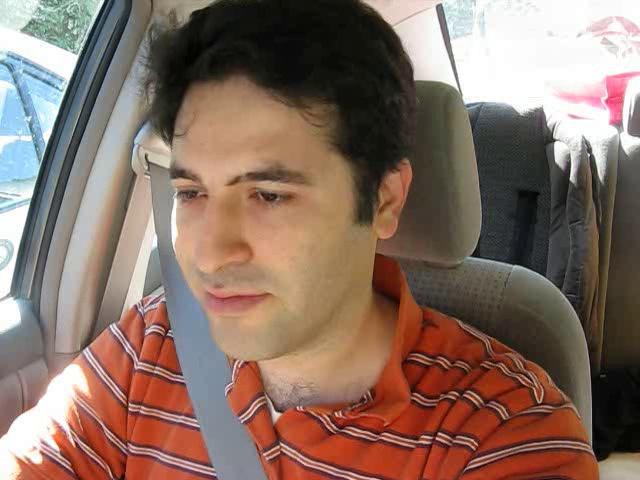no_yawn: (177, 272, 289, 328)
open_eyeL: (163, 174, 217, 214)
open_eyeR: (234, 172, 312, 218)
